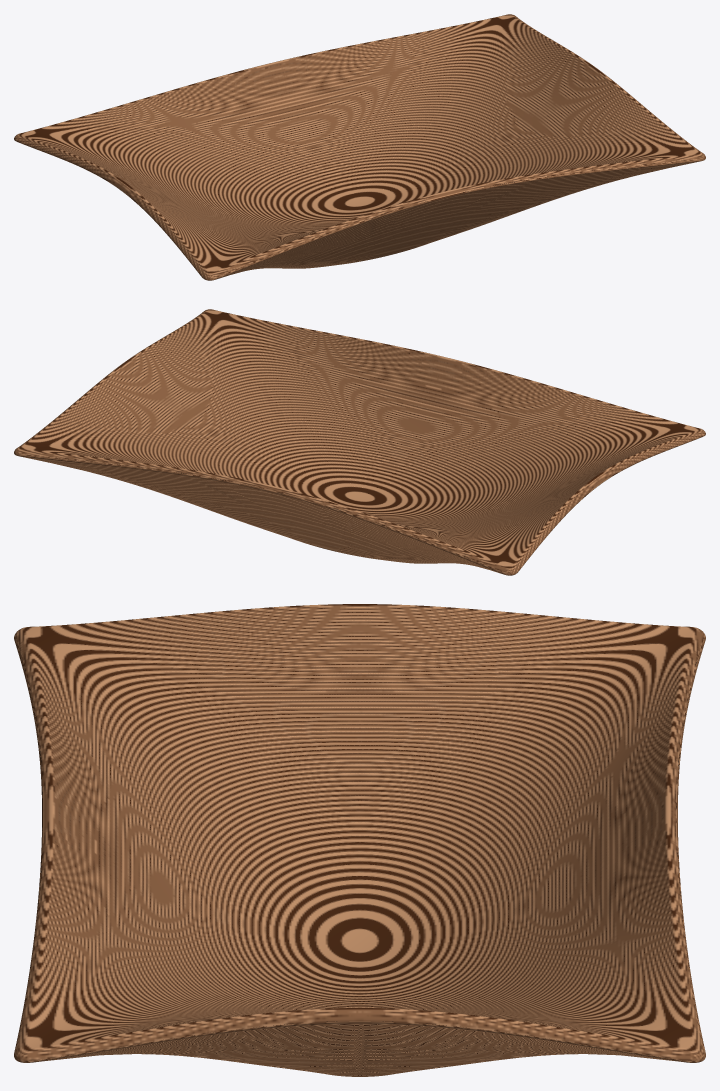
File: Заготовка8 120 -20 50.glb
The picture shows the model from 3 angles, top to bottom: view 1: azimuth 30°, elevation 25°; view 2: azimuth 150°, elevation 25°; view 3: azimuth 270°, elevation 25°; orthographic projection. The views are drawn at different scales.
Parts seen in each view (by area): view 1: Solid_115; view 2: Solid_115; view 3: Solid_115.
Boxes of the visible parts, x1,y1,x2,y2 form: Solid_115: [14, 14, 705, 280]; Solid_115: [14, 309, 705, 575]; Solid_115: [14, 604, 705, 1076].
Bounding box in the file's own units: 558 × 116 × 378.
1 material, 1 textured.
